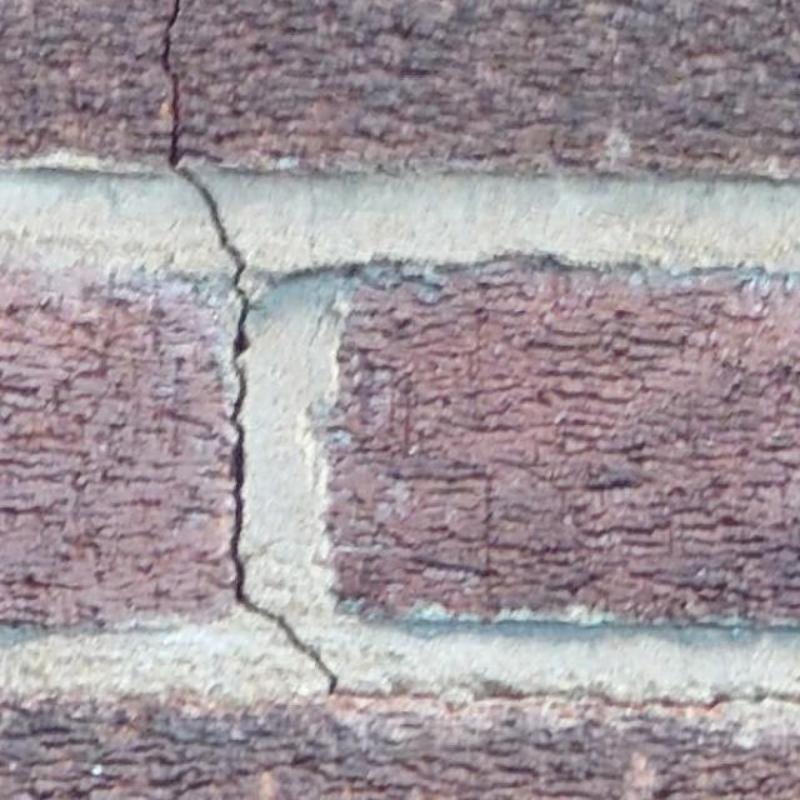crack: (161, 0, 336, 690), (334, 681, 799, 711)
